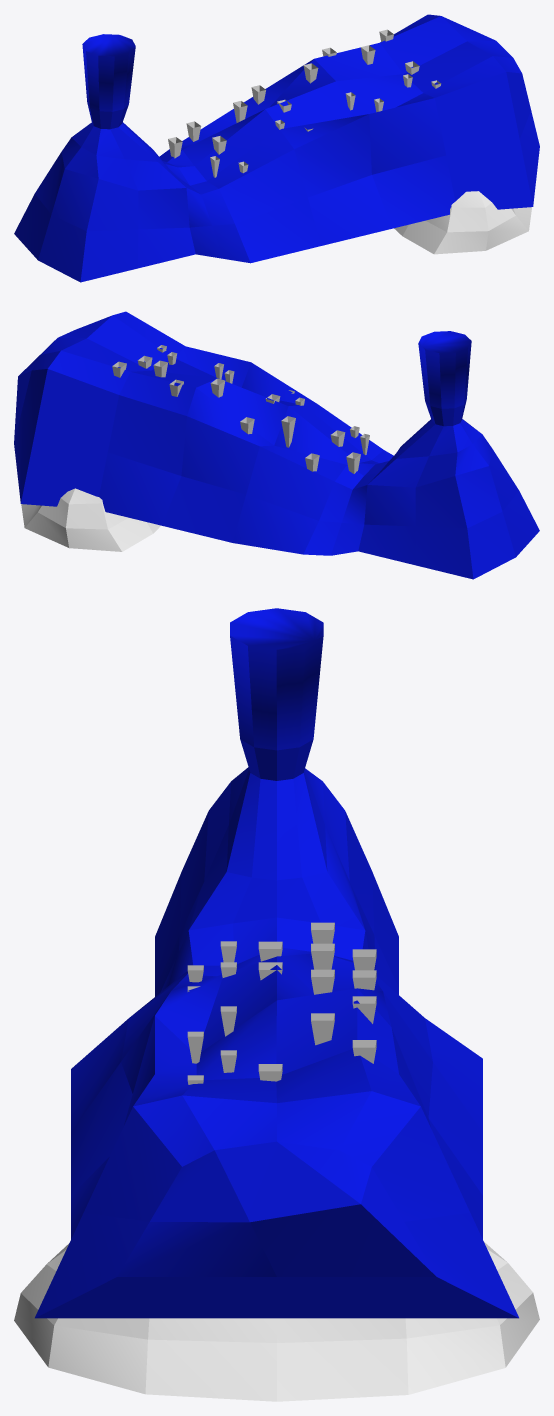
File: caveChimney.glb
The picture shows the model from 3 angles, top to bottom: view 1: azimuth 30°, elevation 25°; view 2: azimuth 150°, elevation 25°; view 3: azimuth 270°, elevation 25°; orthographic projection. The views are drawn at different scales.
Parts seen in each view (by area): view 1: Cube.001, Cube.002, Cube.003; view 2: Cube.001, Cube.002, Cube.003; view 3: Cube.001, Cube.002, Cube.003.
Boxes of the visible parts, <box> form: Cube.001: <box>14,14,539,282</box>; Cube.002: <box>394,191,531,254</box>; Cube.003: <box>168,29,441,177</box>; Cube.001: <box>14,311,539,579</box>; Cube.002: <box>21,488,160,551</box>; Cube.003: <box>112,345,369,473</box>; Cube.001: <box>35,608,518,1318</box>; Cube.002: <box>14,1242,539,1401</box>; Cube.003: <box>187,922,376,1084</box>.
Bounding box in the file's own units: 255 × 117 × 133.
